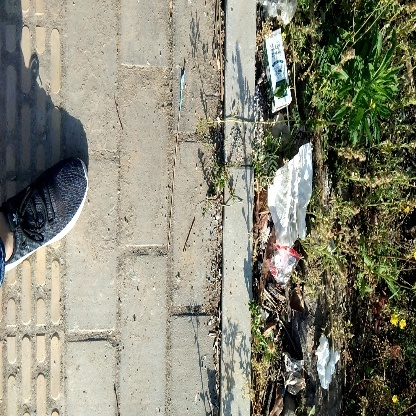milk-box: (261, 25, 297, 116)
plastic-bag: (266, 140, 315, 278)
